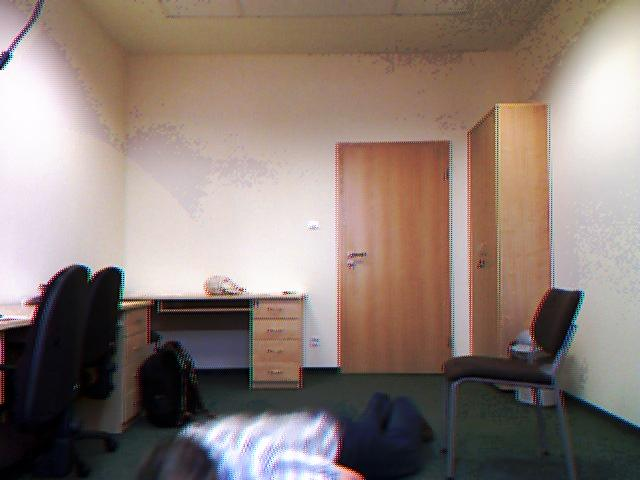near-fall: (152, 394, 455, 480)
